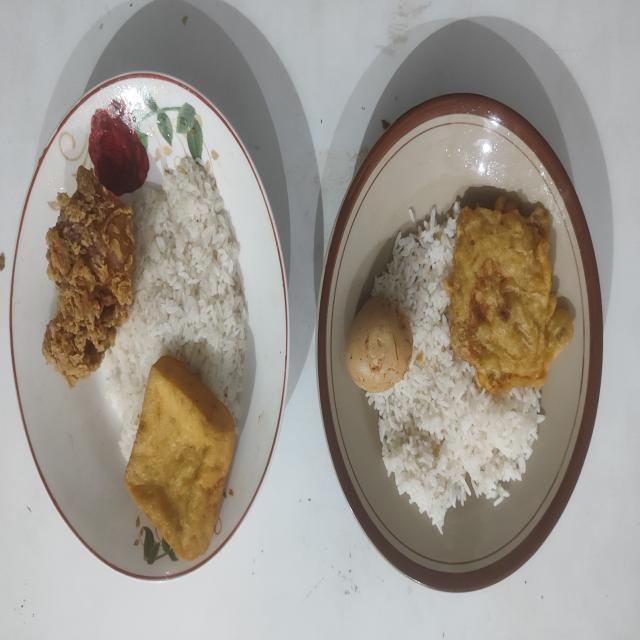nasi_putih: (366, 203, 545, 534), (101, 159, 248, 459)
tahu_goreng: (125, 356, 235, 560)
